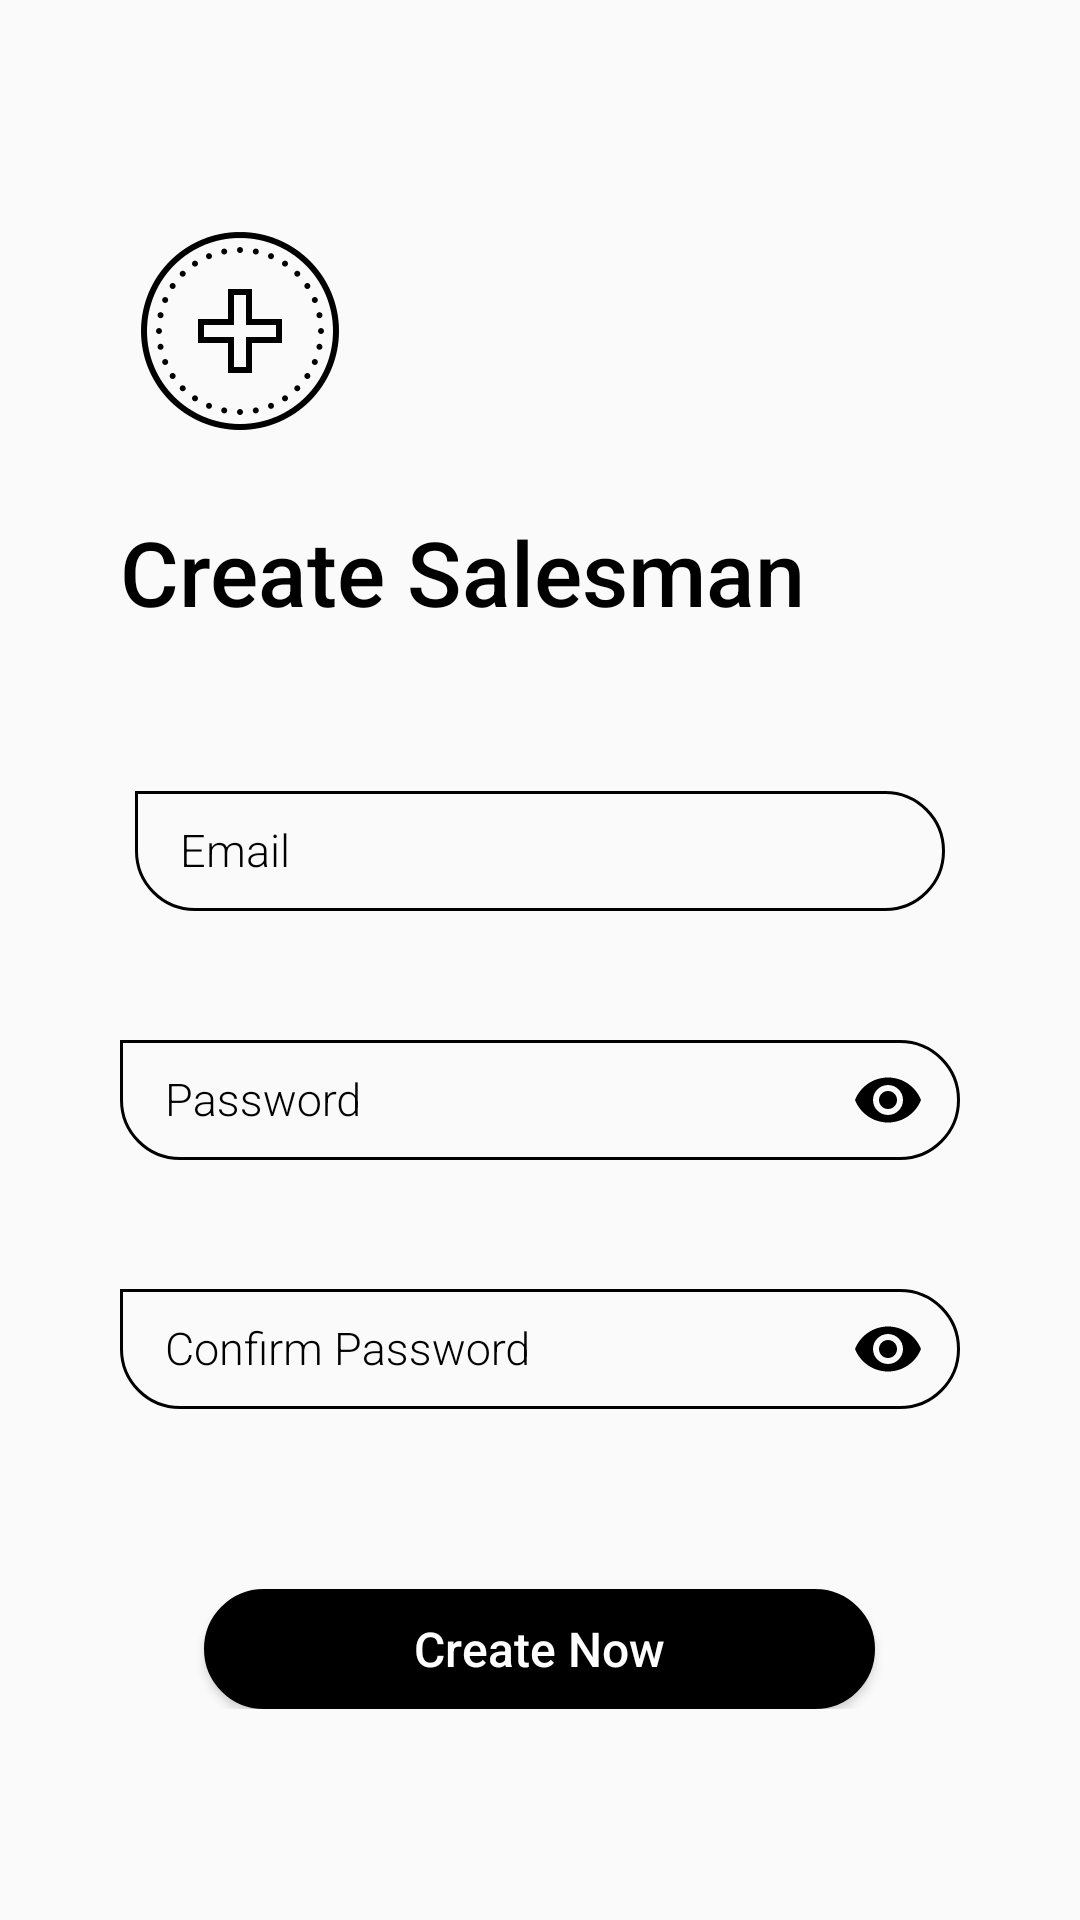

Named icons in this screenshot (1080×1920) and their centers, (x=x, y=y):
add: (x=240, y=331)
